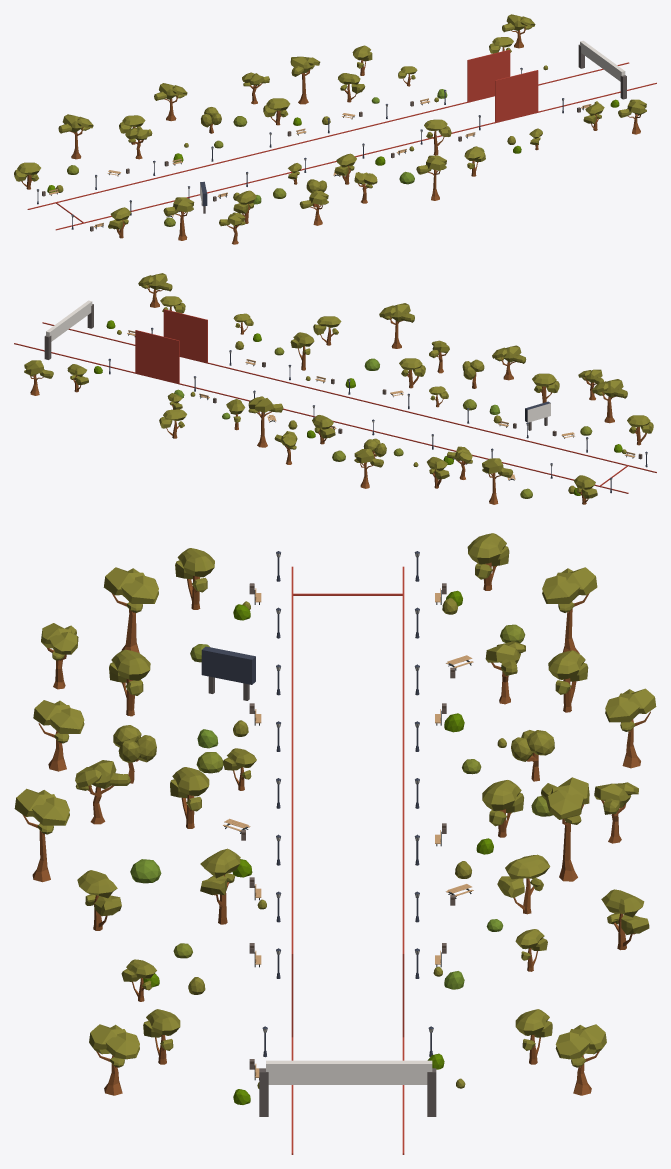
The model's file is EnvNoColliders.fbx.
The picture shows the model from 3 angles, top to bottom: view 1: azimuth 30°, elevation 25°; view 2: azimuth 150°, elevation 25°; view 3: azimuth 270°, elevation 25°; orthographic projection. The views are drawn at different scales.
Visible parts, largest first — view 1: Border2, Tree2, Tree1, Tree4, Tree9, Tree3, Finish, Bush3, Tree6, Tree8, Tree5, Bush1 (+3 smaller); view 2: Border2, Tree2, Tree1, Tree4, Tree9, Finish, Tree6, Bush3, Tree3, Tree5, Tree8, Bush1 (+3 smaller); view 3: Tree2, Tree1, Tree4, Finish, Tree9, Border2, Tree3, Tree6, Bush3, Tree5, Tree8, Bush1 (+4 smaller).
Part boxes in pixels (x1,y1,x2,y2): Border2: (27, 49, 656, 230); Tree2: (58, 56, 446, 240); Tree1: (14, 98, 356, 238); Tree4: (125, 72, 377, 244); Tree9: (502, 14, 646, 134); Tree3: (338, 73, 451, 155); Finish: (578, 40, 626, 99); Bush3: (67, 97, 484, 226); Tree6: (352, 45, 485, 176); Tree8: (489, 37, 604, 130); Tree5: (201, 107, 326, 207); Bush1: (47, 89, 521, 204); Border2: (14, 309, 656, 493); Tree2: (248, 303, 627, 504); Tree1: (312, 358, 653, 504); Tree4: (274, 340, 603, 479); Tree9: (24, 273, 172, 395); Finish: (44, 300, 93, 359); Tree6: (159, 316, 341, 438); Bush3: (222, 347, 592, 498); Tree3: (226, 332, 314, 430); Tree5: (363, 359, 484, 465); Tree8: (67, 296, 185, 392); Bush1: (174, 333, 622, 495); Tree2: (14, 567, 656, 882); Tree1: (109, 533, 588, 837); Tree4: (41, 623, 638, 843); Finish: (259, 1060, 436, 1116); Tree9: (89, 1024, 606, 1095); Border2: (291, 566, 404, 1154); Tree3: (200, 848, 550, 924); Tree6: (77, 870, 649, 950); Bush3: (130, 624, 552, 958); Tree5: (113, 725, 554, 783); Tree8: (143, 1009, 552, 1064); Bush1: (143, 590, 493, 989).
Bounding box in the file's own units: 1500 × 112 × 693.
